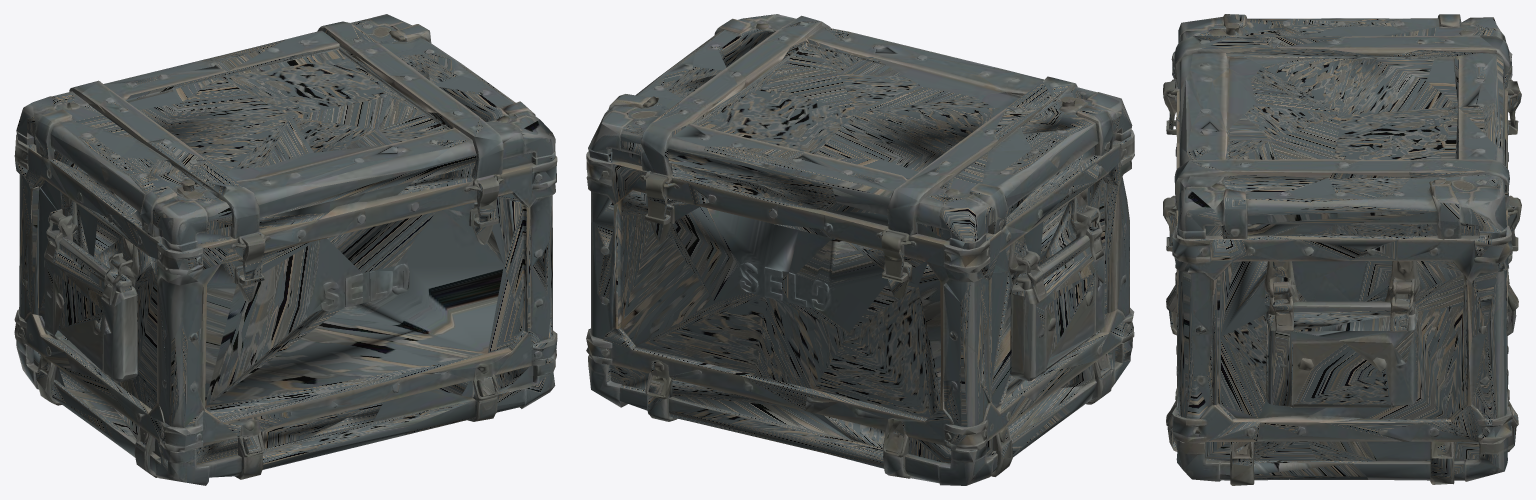
File: bzCrateMeshy.a9944634.glb
3 views of the same model, side by side, from view 1: azimuth 30°, elevation 25°; view 2: azimuth 150°, elevation 25°; view 3: azimuth 270°, elevation 25° (orthographic).
Parts seen in each view (by area): view 1: output_unwrapped; view 2: output_unwrapped; view 3: output_unwrapped.
Part boxes in pixels (bbox=[...]): output_unwrapped: bbox=[14, 14, 557, 485]; output_unwrapped: bbox=[586, 14, 1134, 485]; output_unwrapped: bbox=[1163, 14, 1521, 485].
Size of the model in its own units: 1.89 by 1.25 by 1.38.
Materials: 1 (1 with a texture image).
